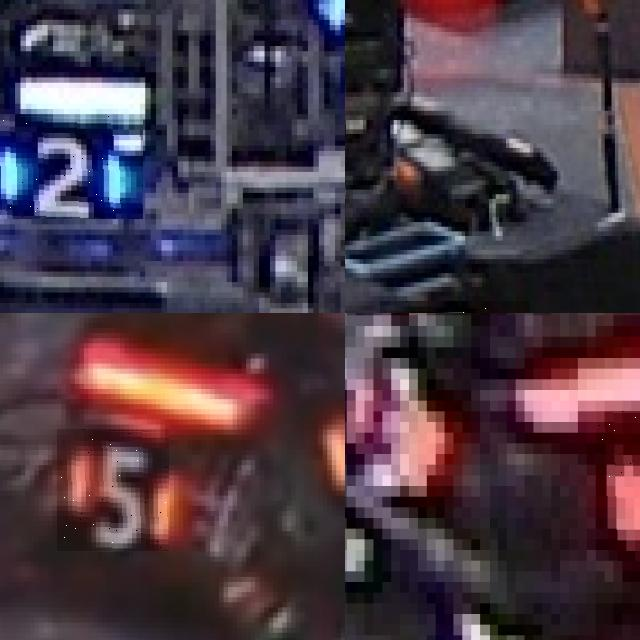B2: (0, 114, 142, 219)
R3: (345, 347, 444, 496), (595, 411, 640, 560)
R5: (57, 429, 169, 552)
